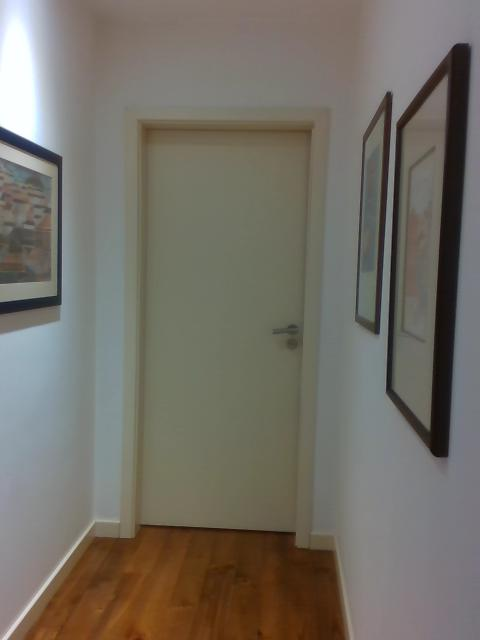door: (135, 126, 310, 534)
